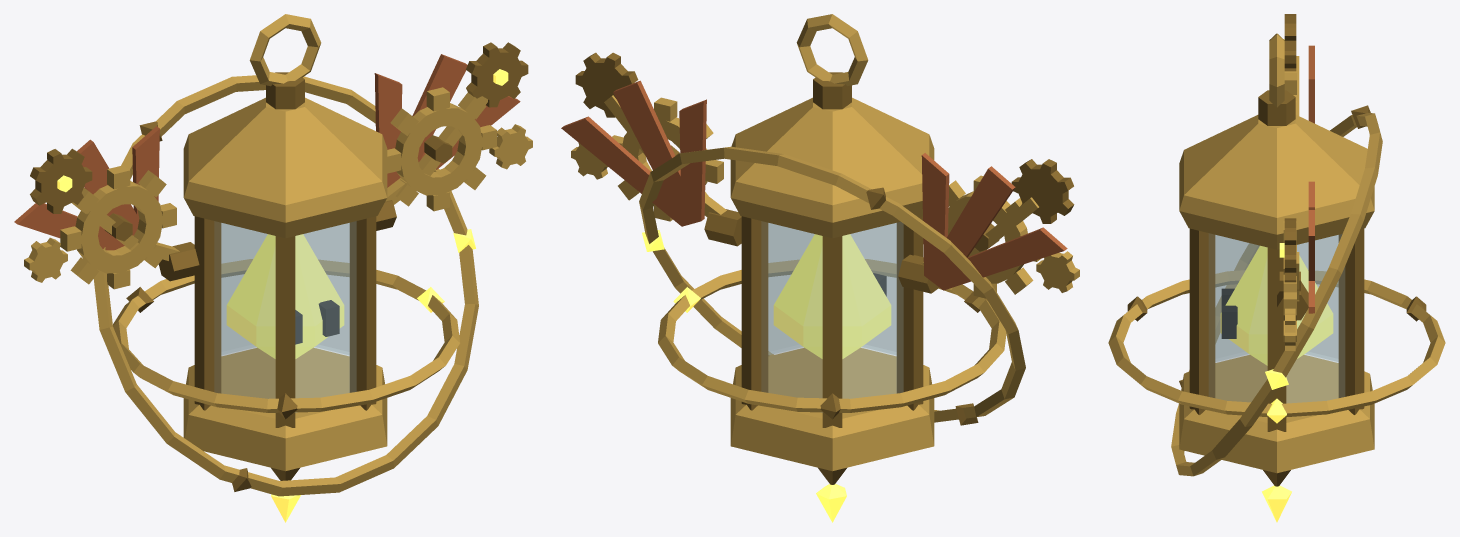
File: wisp.glb
3 renders of one model, left to right at view 1: azimuth 30°, elevation 25°; view 2: azimuth 150°, elevation 25°; view 3: azimuth 270°, elevation 25°, orthographic. The views are drawn at different scales.
Parts seen in each view (by area): view 1: lantern, wing_R, wing_L, ring_B, ring_A, flame; view 2: lantern, wing_R, wing_L, ring_B, ring_A, flame; view 3: lantern, ring_A, ring_B, flame, wing_L, wing_R.
Boxes of the visible parts, bbox=[...] form: lantern: bbox=[183, 14, 387, 522]; wing_R: bbox=[14, 126, 199, 289]; wing_L: bbox=[374, 42, 532, 230]; ring_B: bbox=[93, 75, 478, 496]; ring_A: bbox=[113, 259, 459, 419]; flame: bbox=[226, 234, 344, 358]; lantern: bbox=[730, 14, 934, 522]; wing_R: bbox=[898, 153, 1079, 298]; wing_L: bbox=[561, 52, 741, 246]; ring_B: bbox=[639, 146, 1025, 425]; ring_A: bbox=[658, 259, 1006, 419]; flame: bbox=[773, 234, 891, 358]; lantern: bbox=[1179, 33, 1374, 522]; ring_A: bbox=[1108, 270, 1445, 423]; ring_B: bbox=[1171, 105, 1382, 476]; flame: bbox=[1220, 246, 1333, 365]; wing_L: bbox=[1277, 181, 1314, 351]; wing_R: bbox=[1284, 14, 1314, 123].
Bounding box in the file's own units: 1.04 × 1 × 0.628.
